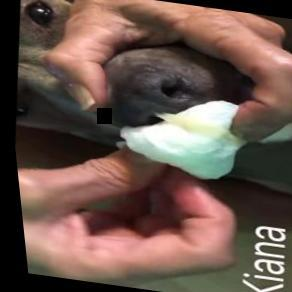nasal_discharge: (117, 93, 207, 139)
